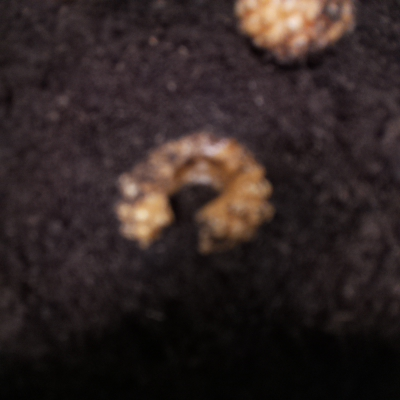eggs: (99, 124, 285, 264), (224, 1, 361, 73)
